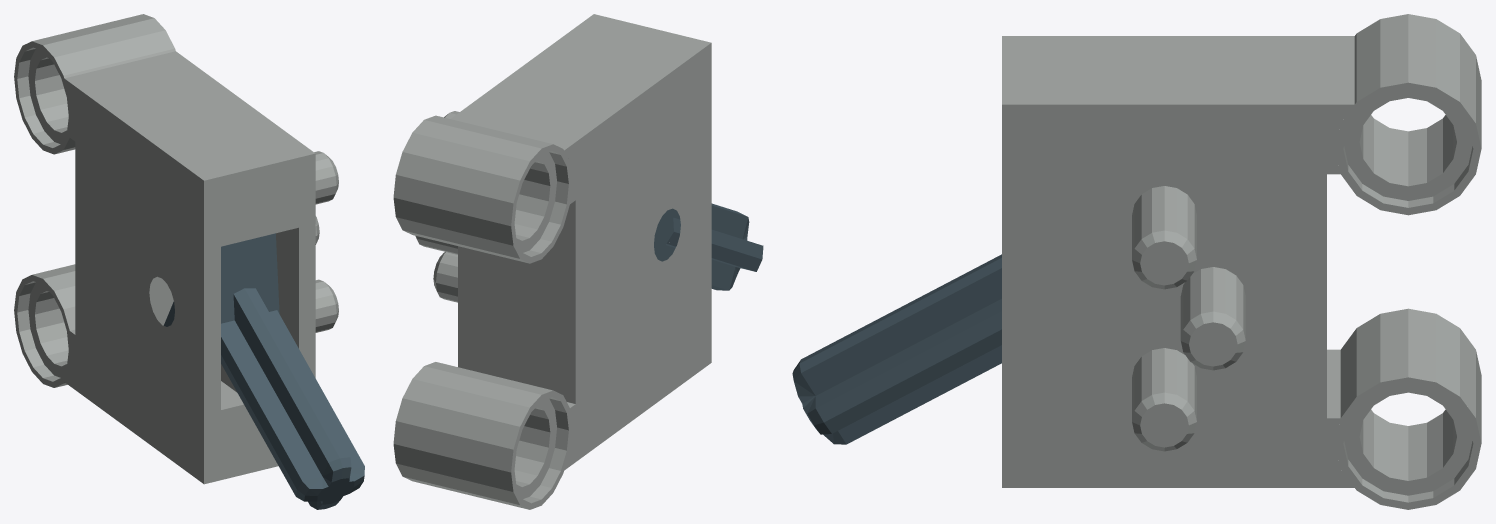
3 renders of one model, left to right at view 1: azimuth 30°, elevation 25°; view 2: azimuth 150°, elevation 25°; view 3: azimuth 270°, elevation 25°, orthographic. The views are drawn at different scales.
Visible parts, largest first — view 1: world; view 2: world; view 3: world.
Boxes of the visible parts, left/top/right/bottom form: world: left=14, top=14, right=364, bottom=509; world: left=393, top=14, right=763, bottom=509; world: left=792, top=14, right=1481, bottom=509.
Size of the model in its own units: 0.0136 by 0.0232 by 0.0339.
